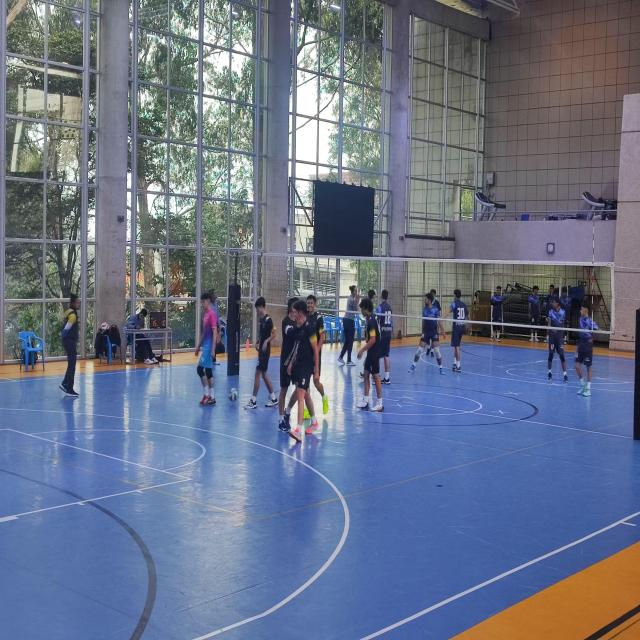volleyball: (229, 387, 238, 402), (101, 322, 109, 332)
